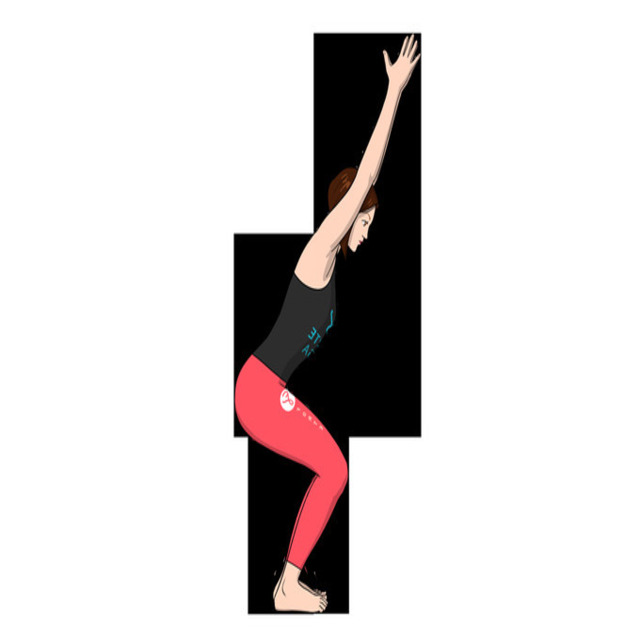Squat_Pose: (233, 34, 422, 603)
